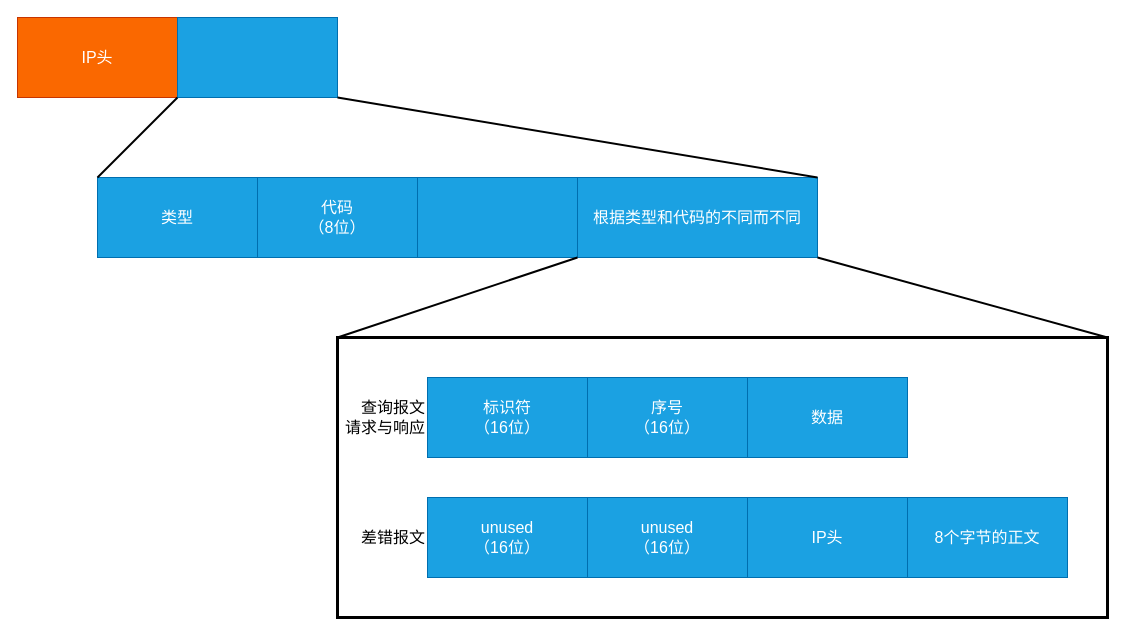
Some shapes in this 1127 by 636 pixel diagram are drawn without their labels. The shapes that lost their labels are listed below. From the top down, each one's centre as x and y in pixels, then its label:
At pixel 257 57: "ICMP报文".
At pixel 497 217: "校验和 （6位）".
